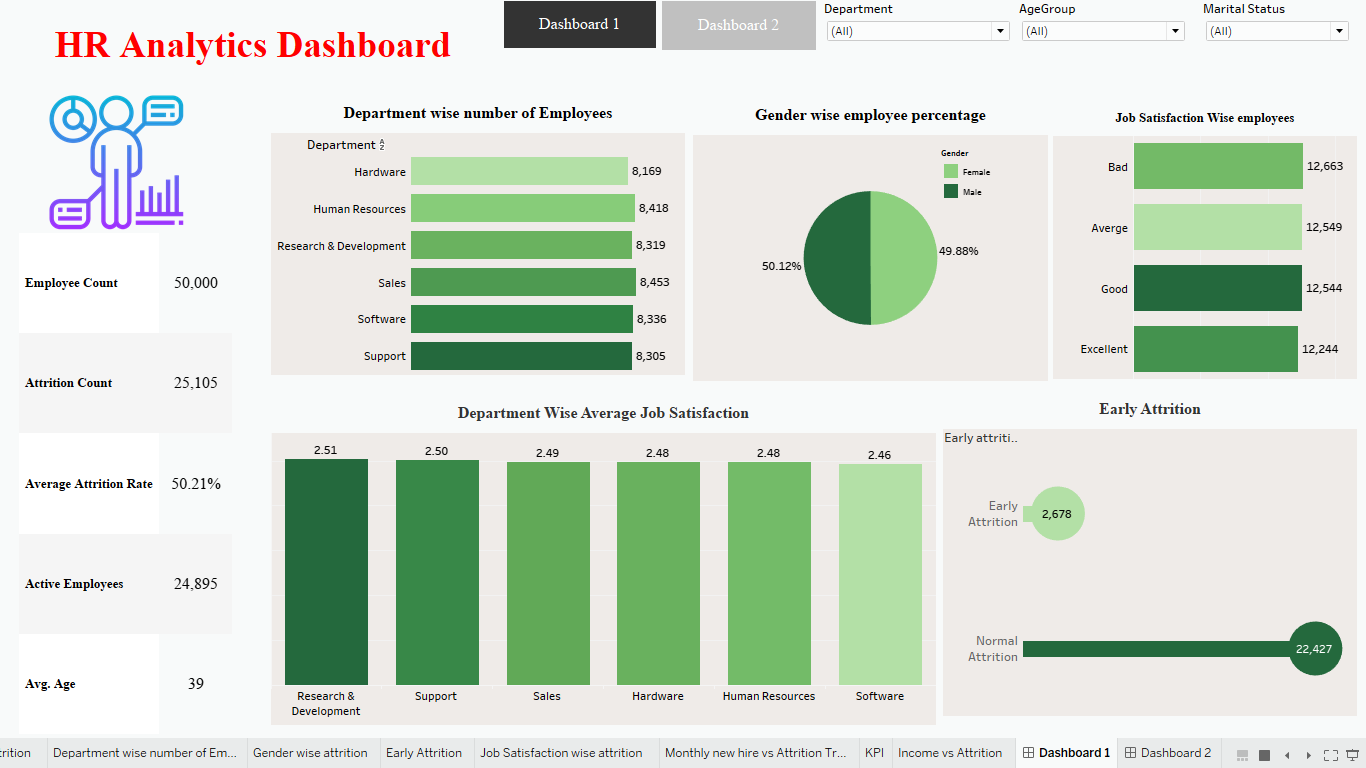

This screenshot's page, from the dashboard's own definition file:
{"tool":"tableau","page":{"name":"Dashboard 1","canvas":[1000,1000],"units":"permille","ordinal":0},"visuals":[{"type":"filter","title":"Department wise number of Employees","param":"[federated.01j7y7x0jsq0ed14inzwk0af3529].[none:Department:nk]","box":[603.5,0,138.5,65.9]},{"type":"filter","title":"Department wise number of Employees","param":"[federated.01j7y7x0jsq0ed14inzwk0af3529].[none:Calculation_18295927729135624:nk]","box":[746.3,0,123.8,81.1]},{"type":"filter","title":"Department wise number of Employees","param":"[federated.01j7y7x0jsq0ed14inzwk0af3529].[none:MaritalStatus:nk]","box":[880.5,0,109.1,86.2]},{"type":"dashboard-object","box":[368.8,1.7,111.7,64.2]},{"type":"dashboard-object","box":[484.9,1.7,112.5,65.9]},{"type":"text","box":[5.2,20.3,360.2,81.1]},{"type":"image","param":"Image/1876375.png","box":[34.6,126.7,106.5,187.5]},{"type":"worksheet","title":"Department wise number of Employees","mark":"Automatic","rows":["Department"],"cols":["Employee ID"],"box":[198.3,135.1,303,381.8]},{"type":"worksheet","title":"Gender wise employee percentage","mark":"Pie","box":[507.4,138.5,259.7,378.4]},{"type":"worksheet","title":"Job Satisfaction Wise employees","mark":"Automatic","rows":["Calculation_18295927720361984"],"cols":["Employee ID"],"box":[770.6,143.6,222.5,369.9]},{"type":"legend","title":"Gender wise employee percentage","param":"[federated.01j7y7x0jsq0ed14inzwk0af3529].[none:Gender:nk]","box":[689.2,199.3,77.1,91.2]},{"type":"worksheet","title":"KPI","mark":"Automatic","box":[13.8,315.9,155.8,679.1]},{"type":"worksheet","title":"Early Attrition","mark":"Bar","rows":["Calculation_756323317379080192"],"cols":["Attrition1","Attrition1"],"box":[690,537.2,303,434.1]},{"type":"worksheet","title":"Department Wise Average Job Satisfaction","mark":"Automatic","rows":["JobSatisfaction"],"cols":["Department"],"box":[198.3,542.2,486.6,440.9]}]}

Visuals, with their boxes on the dashboard's canvas, which has no fixed pixel size, in thousandths of its width and height (x1, y1, x2, y2). These are canvas units, not pixel positions in the 1366x768 screenshot, which may show the page scaled, cropped or inside an application window:
"Department wise number of Employees" filter: region(604, 0, 742, 66)
"Department wise number of Employees" filter: region(746, 0, 870, 81)
"Department wise number of Employees" filter: region(880, 0, 990, 86)
dashboard-object: region(369, 2, 480, 66)
dashboard-object: region(485, 2, 597, 68)
text: region(5, 20, 365, 101)
image: region(35, 127, 141, 314)
"Department wise number of Employees" worksheet: region(198, 135, 501, 517)
"Gender wise employee percentage" worksheet (Pie marks): region(507, 138, 767, 517)
"Job Satisfaction Wise employees" worksheet: region(771, 144, 993, 514)
"Gender wise employee percentage" legend: region(689, 199, 766, 290)
"KPI" worksheet: region(14, 316, 170, 995)
"Early Attrition" worksheet (Bar marks): region(690, 537, 993, 971)
"Department Wise Average Job Satisfaction" worksheet: region(198, 542, 685, 983)
